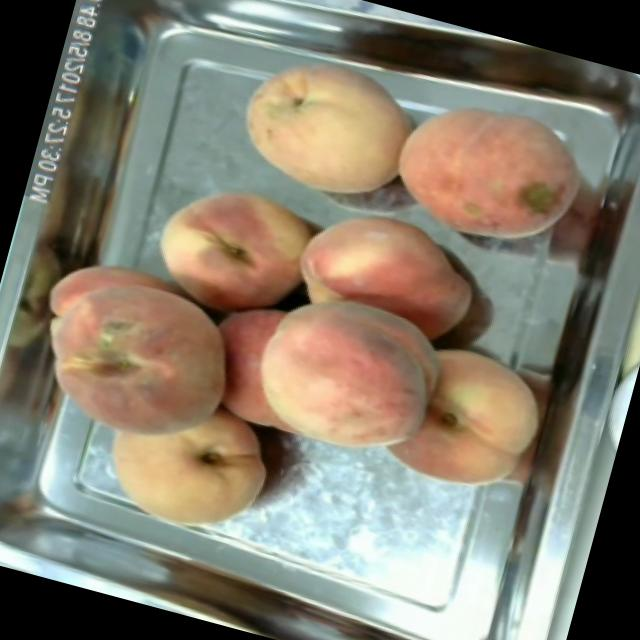Fruit: (3, 234, 262, 470), (370, 69, 607, 271), (234, 281, 456, 479), (220, 32, 432, 220), (80, 380, 288, 559), (363, 322, 558, 512), (132, 162, 330, 342), (279, 186, 496, 344)
